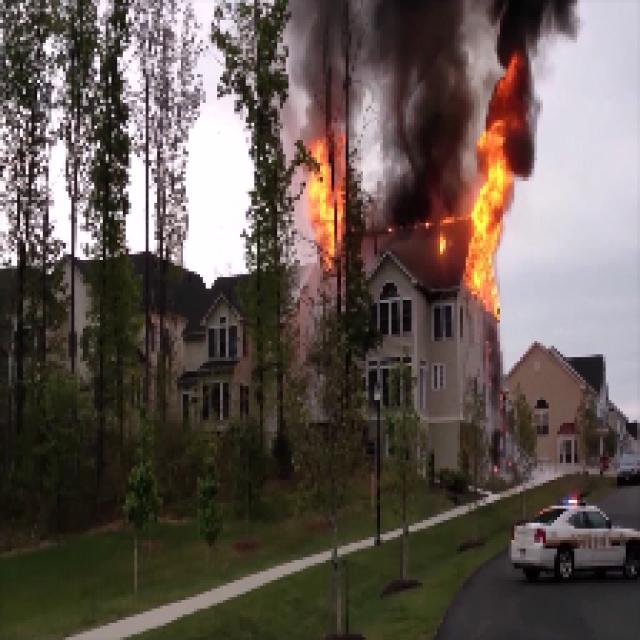fire: (469, 163, 519, 293)
smoke: (388, 0, 461, 214)
